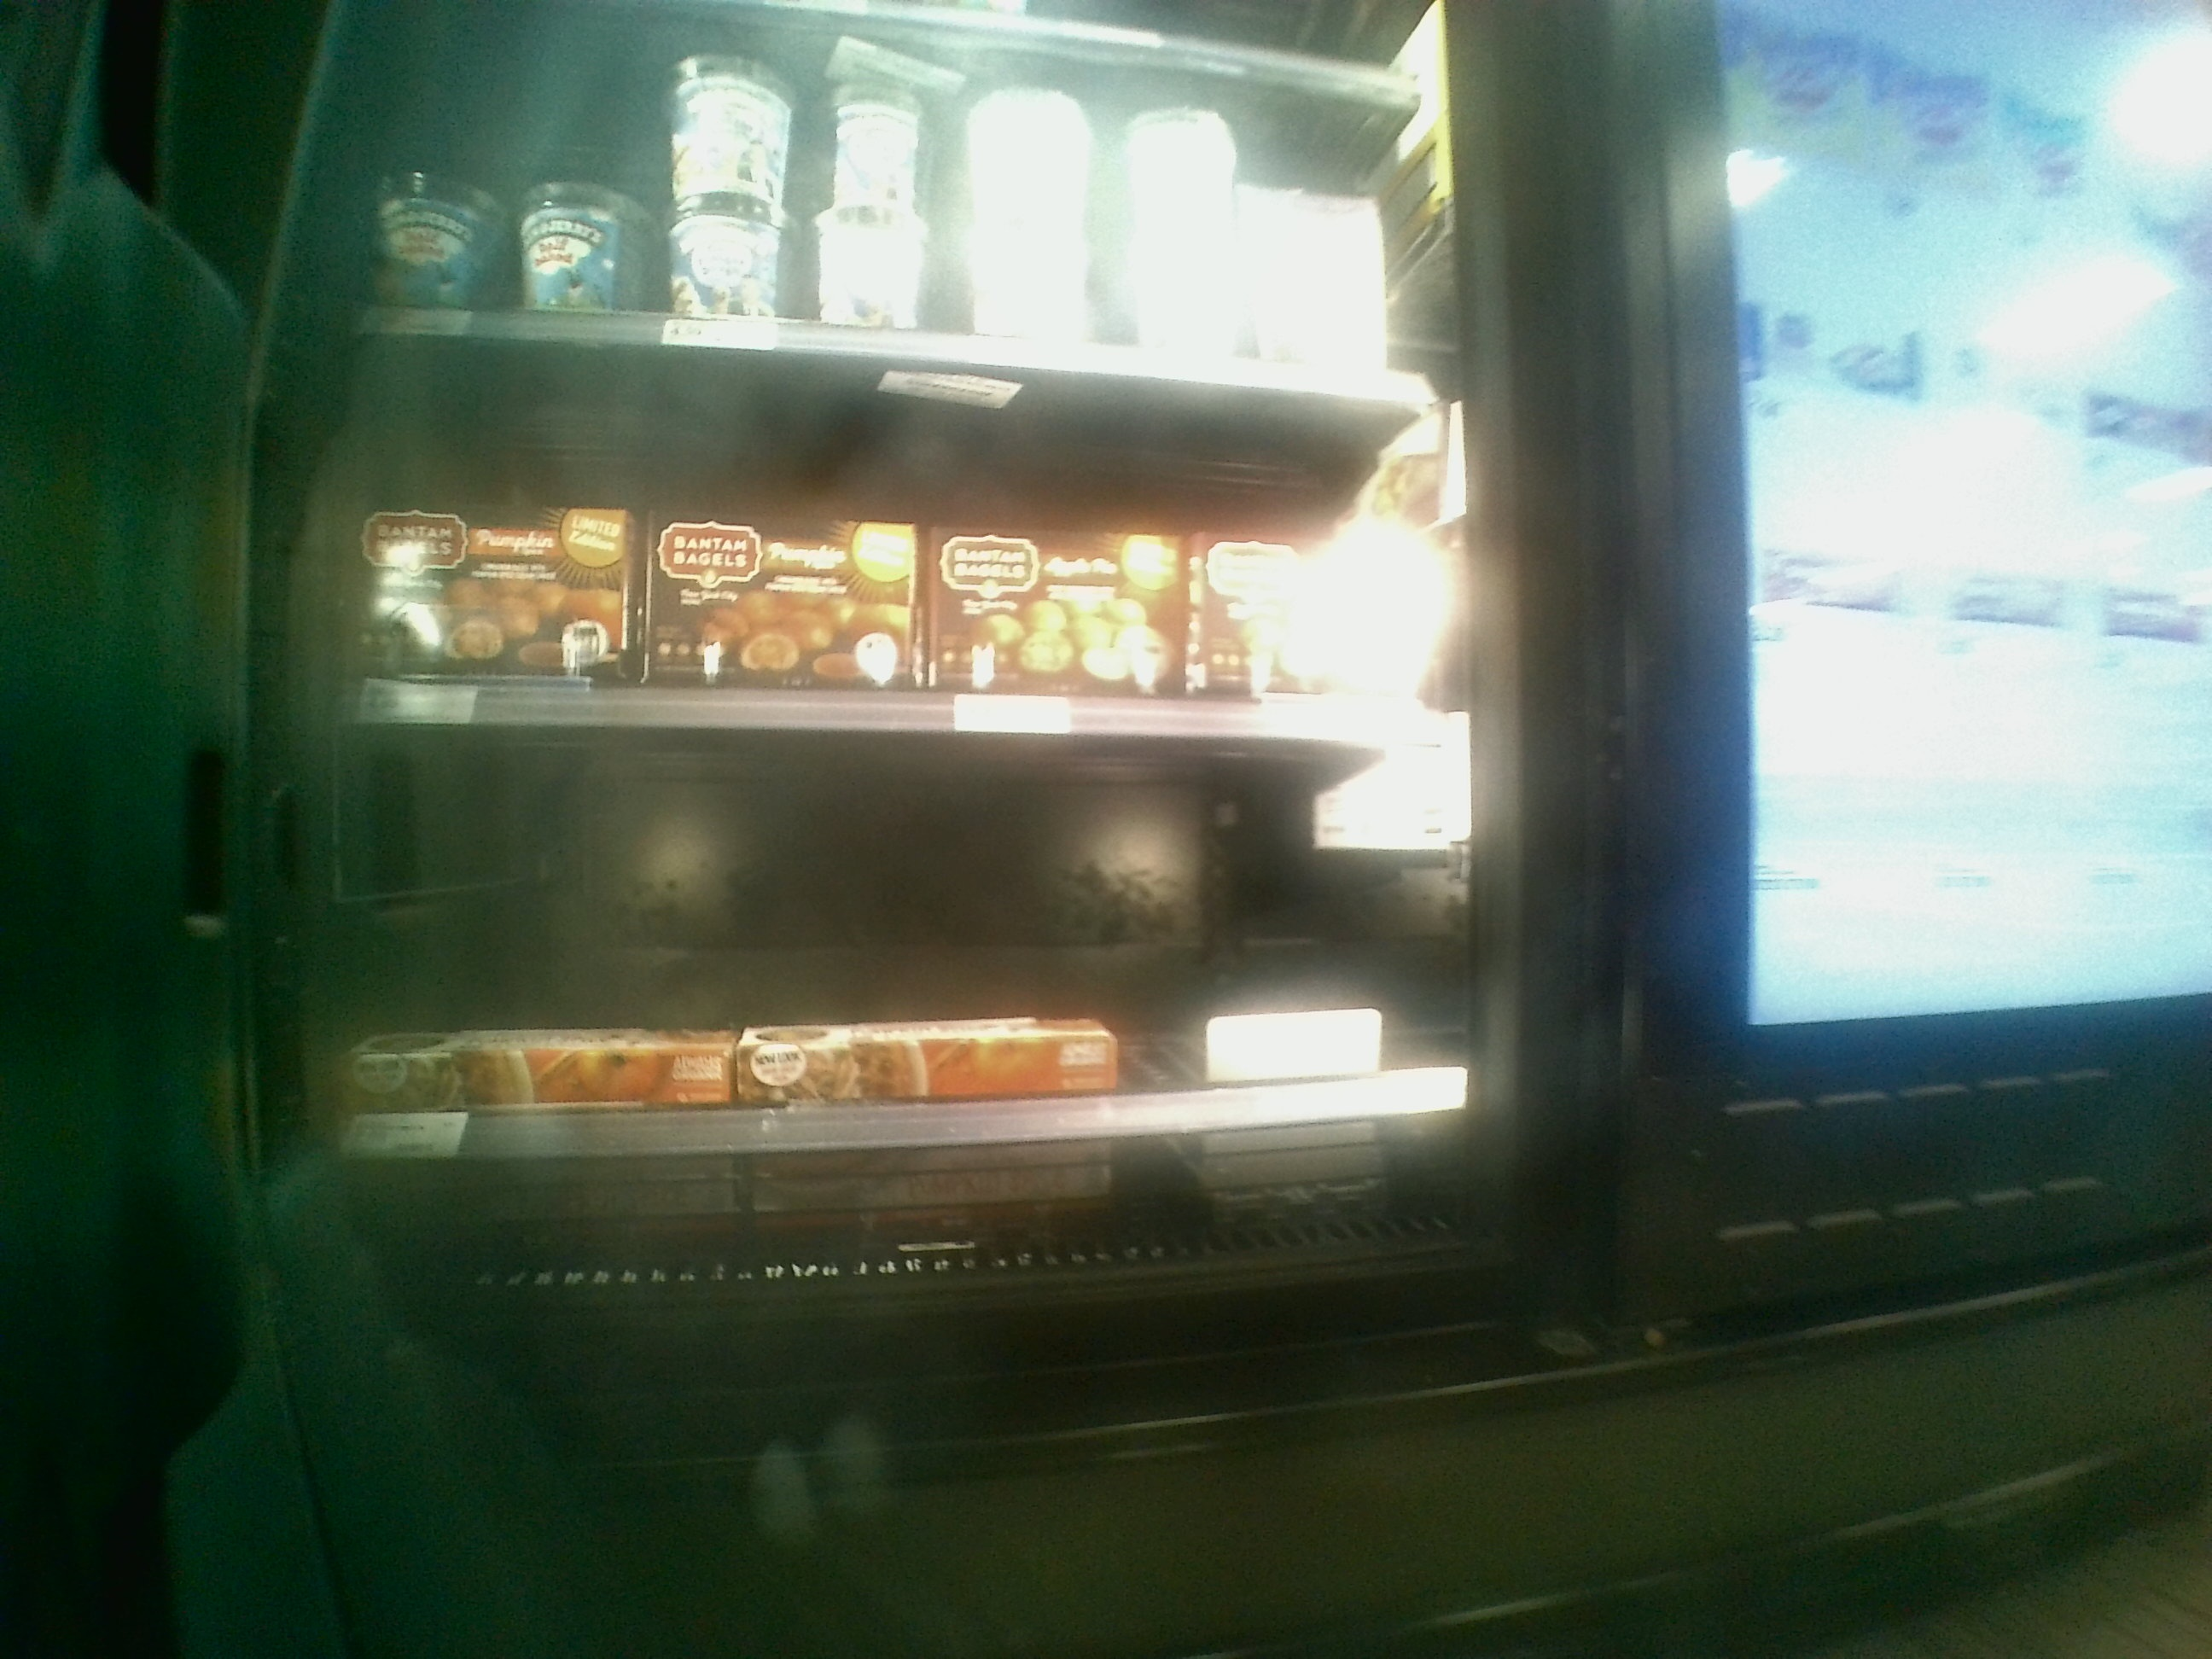shelf: (312, 706, 1484, 1115), (317, 329, 1451, 735)
